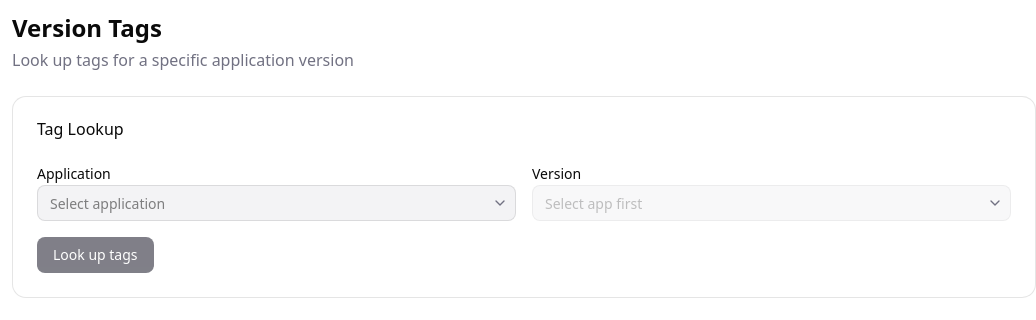
TagsPage › should enable button when both fields are filled
Click the dropdown with placeholder "Select application" at (276, 203), box x1=37 y1=185 x2=516 y2=221
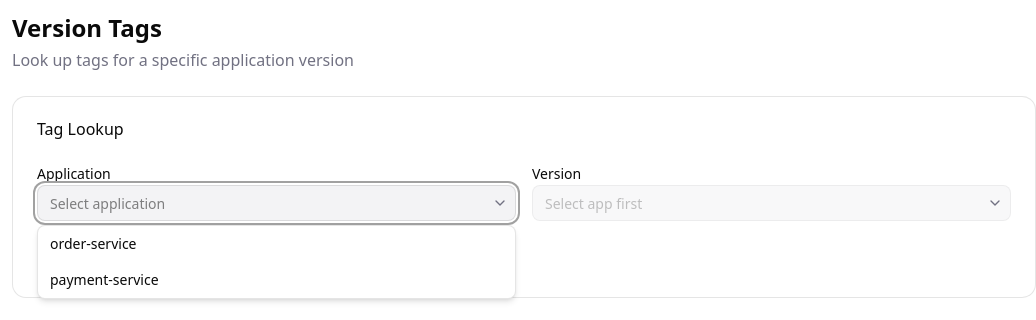
Click the option "order-service" at (93, 244), box x1=50 y1=234 x2=136 y2=253
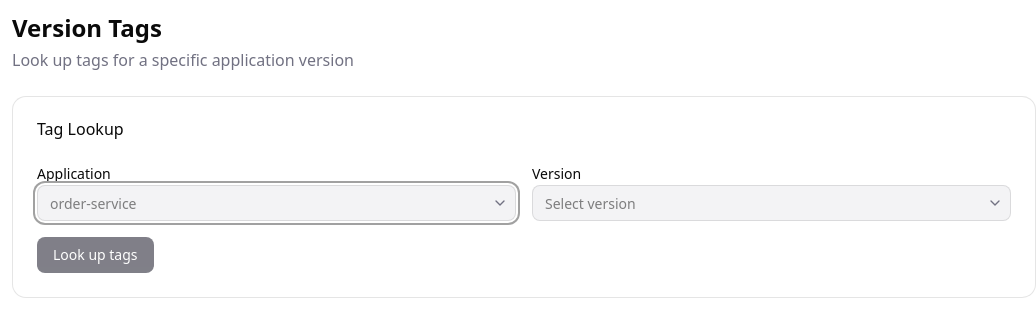
Click the dropdown with placeholder "Select version" at (772, 203), box x1=532 y1=185 x2=1011 y2=221
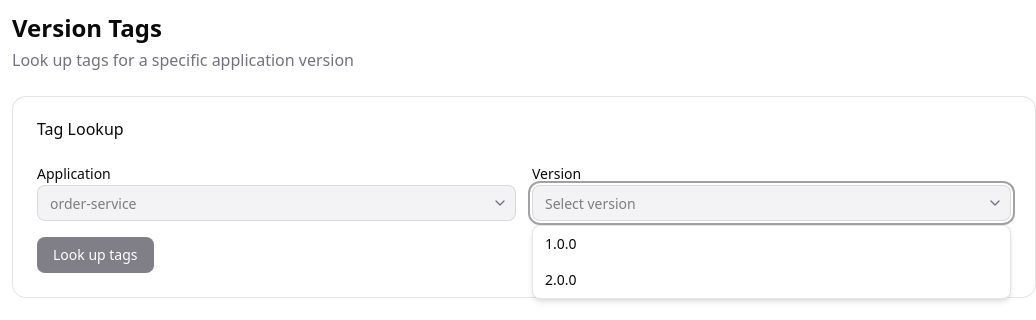
Click the option "1.0.0" at (561, 244), box x1=545 y1=234 x2=576 y2=253
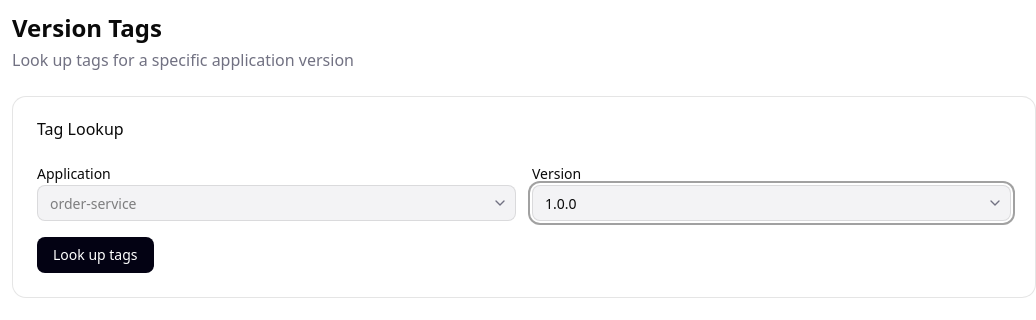
Check: the button "Look up tags" is enabled, box x1=37 y1=237 x2=154 y2=273
